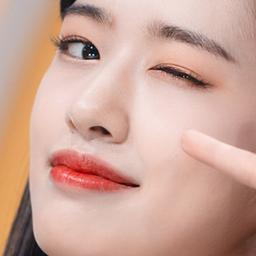face: (34, 2, 244, 252)
